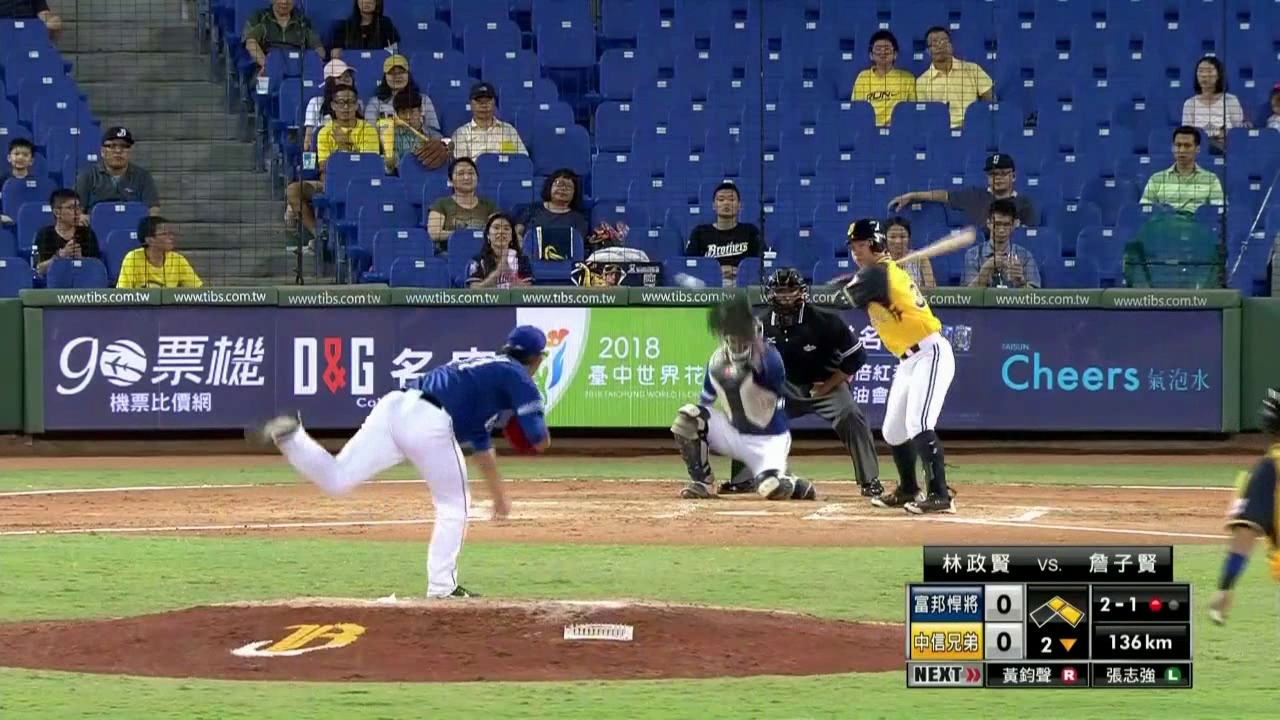ball: (682, 275, 698, 291)
base: (1028, 592, 1085, 629)
bat: (893, 224, 978, 263)
out: (1146, 590, 1186, 622)
score1: (986, 587, 1021, 617)
score2: (984, 623, 1021, 657)
session: (1027, 628, 1084, 659)
speed: (1092, 629, 1188, 659)
strikeball: (1092, 588, 1143, 623)
